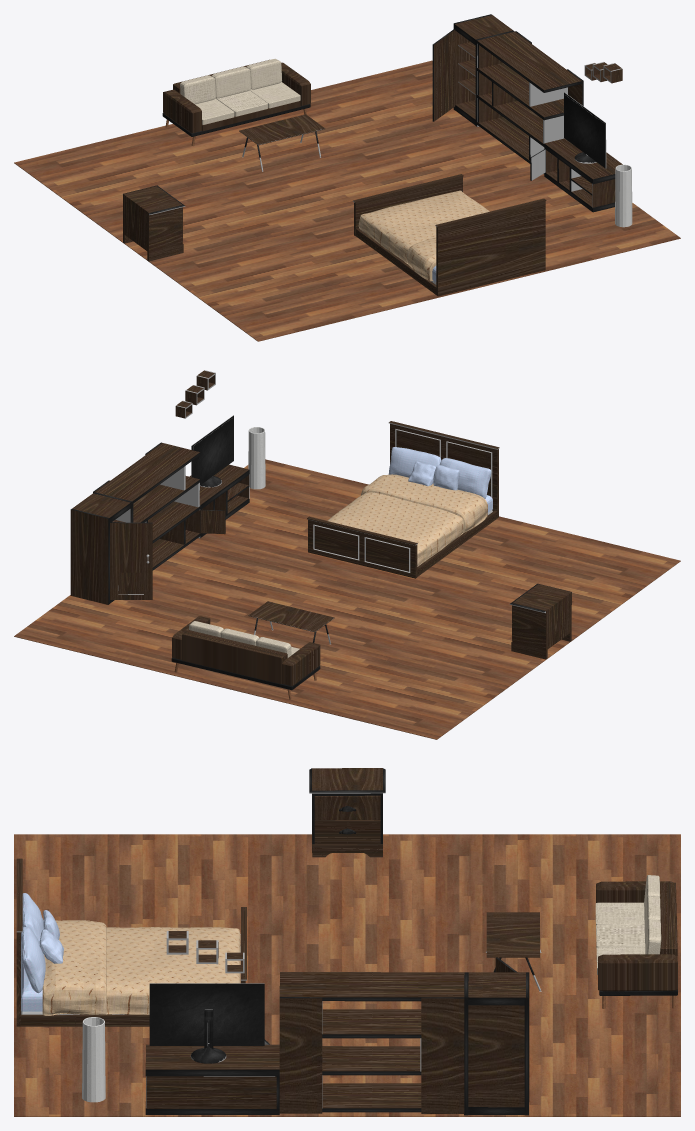
Rendered from T2 Set 2 Pos 6.glb.
The picture shows the model from 3 angles, top to bottom: view 1: azimuth 30°, elevation 25°; view 2: azimuth 150°, elevation 25°; view 3: azimuth 270°, elevation 25°; orthographic projection. The views are drawn at different scales.
Size of the model in its own units: 0.2923 by 0.0855 by 0.292.
Materials: 9 (8 with a texture image).
